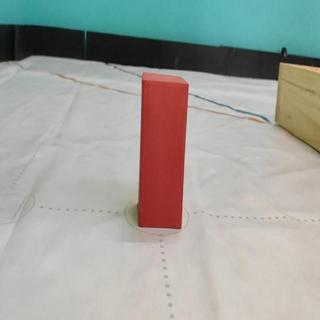redbox: (139, 71, 190, 229)
